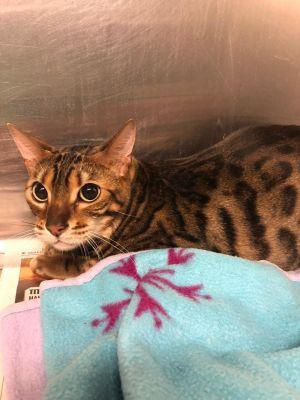bengal: (1, 108, 154, 263)
